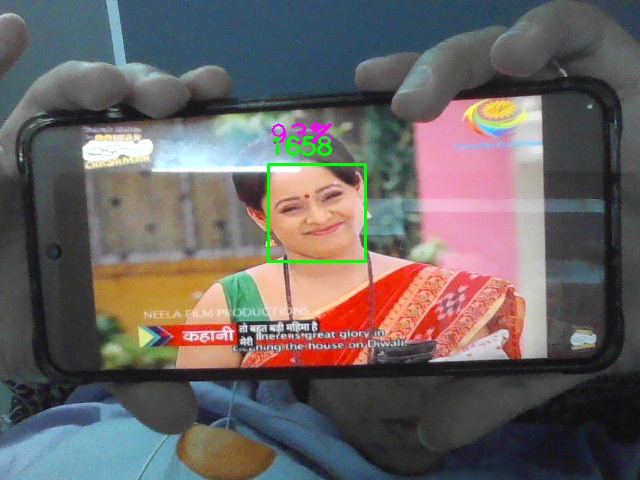fake: (268, 164, 366, 262)
